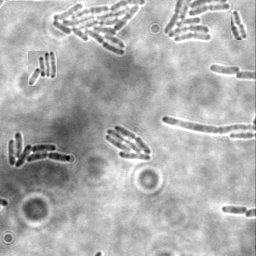Dividing: (161, 114, 255, 133), (231, 10, 247, 40), (221, 204, 248, 215)
Microcolony: (51, 1, 147, 56), (162, 1, 231, 44), (8, 130, 72, 167), (106, 124, 153, 160), (28, 51, 57, 86), (208, 63, 240, 74)
